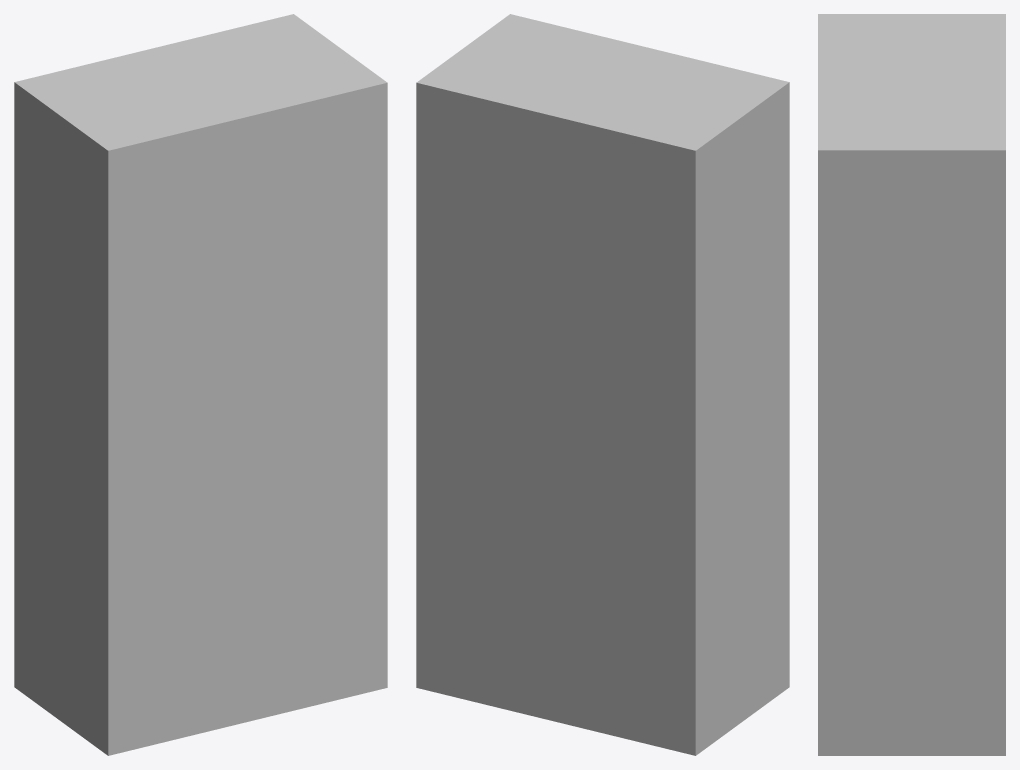
File: Switch_C1_03.fbx
3 views of the same model, side by side, from view 1: azimuth 30°, elevation 25°; view 2: azimuth 150°, elevation 25°; view 3: azimuth 270°, elevation 25° (orthographic).
Parts seen in each view (by area): view 1: Switch_C1_03; view 2: Switch_C1_03; view 3: Switch_C1_03.
Boxes of the visible parts, x1,y1,x2,y2 form: Switch_C1_03: (14, 14, 387, 755); Switch_C1_03: (416, 14, 789, 755); Switch_C1_03: (818, 14, 1005, 755).
Size of the model in its own units: 2.85 by 5.9 by 1.66.
